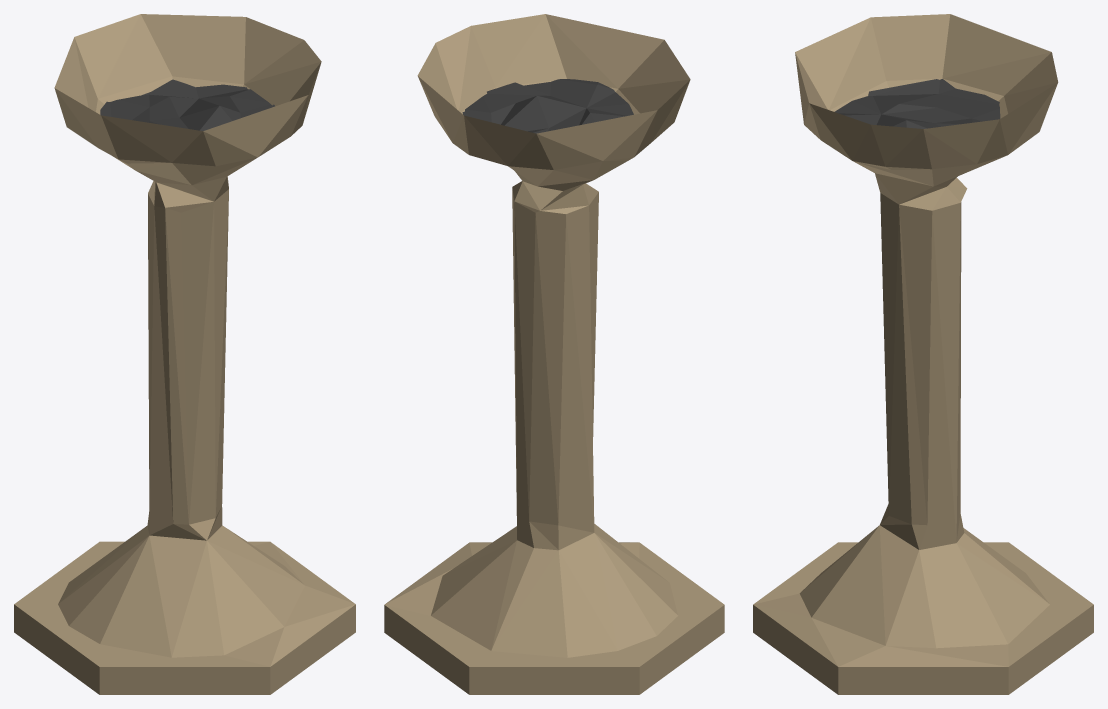
Rendered from column-torch.lod2.glb.
The picture shows the model from 3 angles, left to right: view 1: azimuth 30°, elevation 25°; view 2: azimuth 150°, elevation 25°; view 3: azimuth 270°, elevation 25°; orthographic projection.
Visible parts, largest first — view 1: Cylinder_Material.001_0; view 2: Cylinder_Material.001_0; view 3: Cylinder_Material.001_0.
Boxes of the visible parts, x1,y1,x2,y2 form: Cylinder_Material.001_0: (14, 14, 355, 694); Cylinder_Material.001_0: (384, 14, 724, 694); Cylinder_Material.001_0: (753, 14, 1093, 694).
Bounding box in the file's own units: 1.05 × 2.2 × 1.21.
